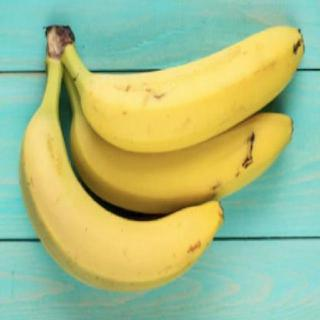banana: (18, 108, 225, 294), (77, 25, 306, 156), (68, 106, 295, 217)
